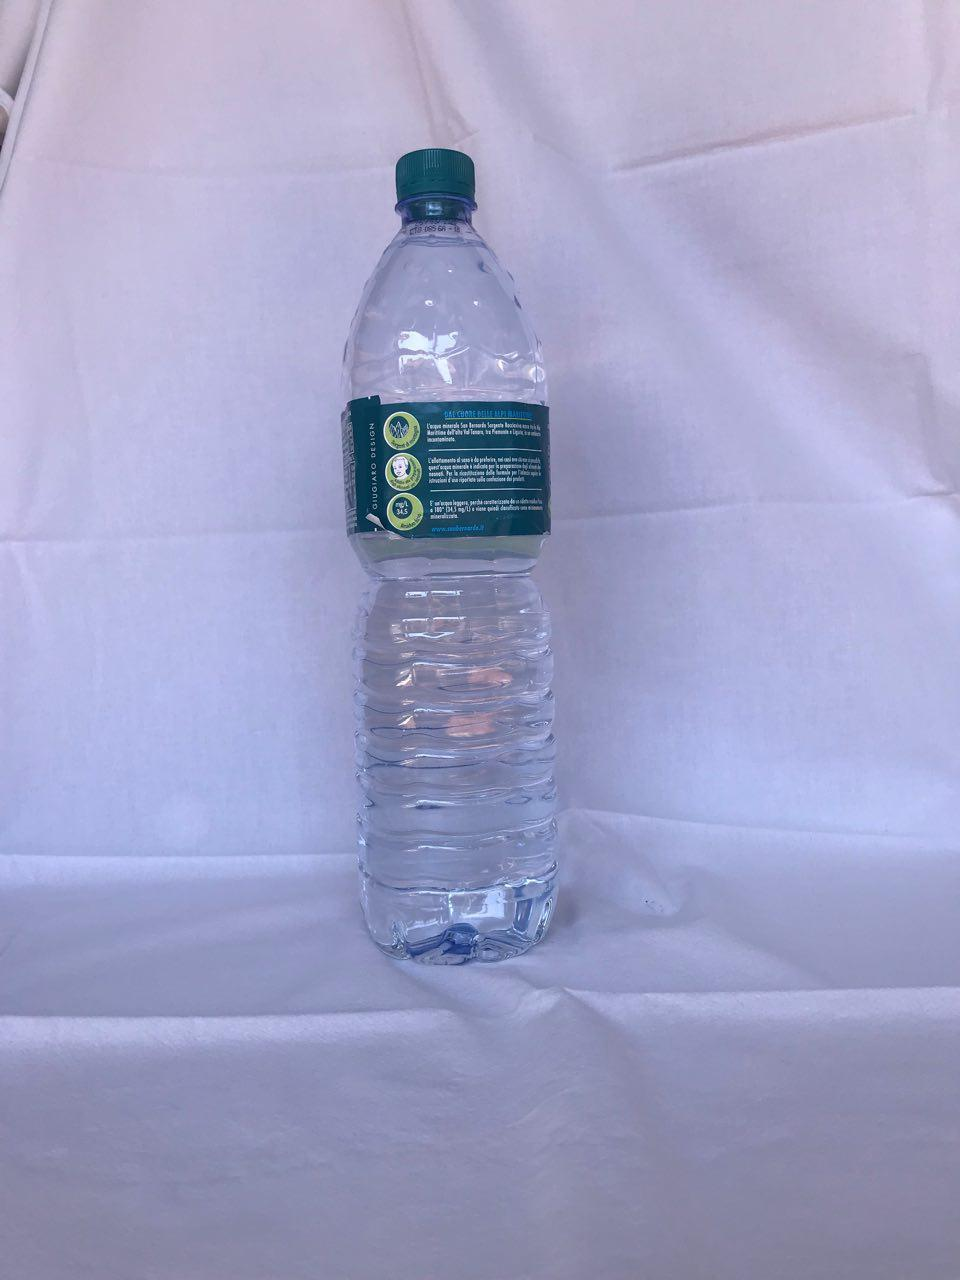san_bernardo: (335, 146, 558, 967)
